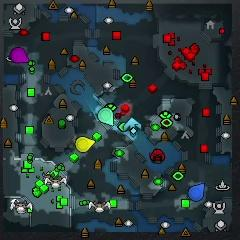p1: (188, 183, 205, 200)
p2: (99, 107, 113, 125)
p3: (11, 47, 29, 63)
x2: (76, 136, 95, 152)
x3: (124, 118, 140, 136)
